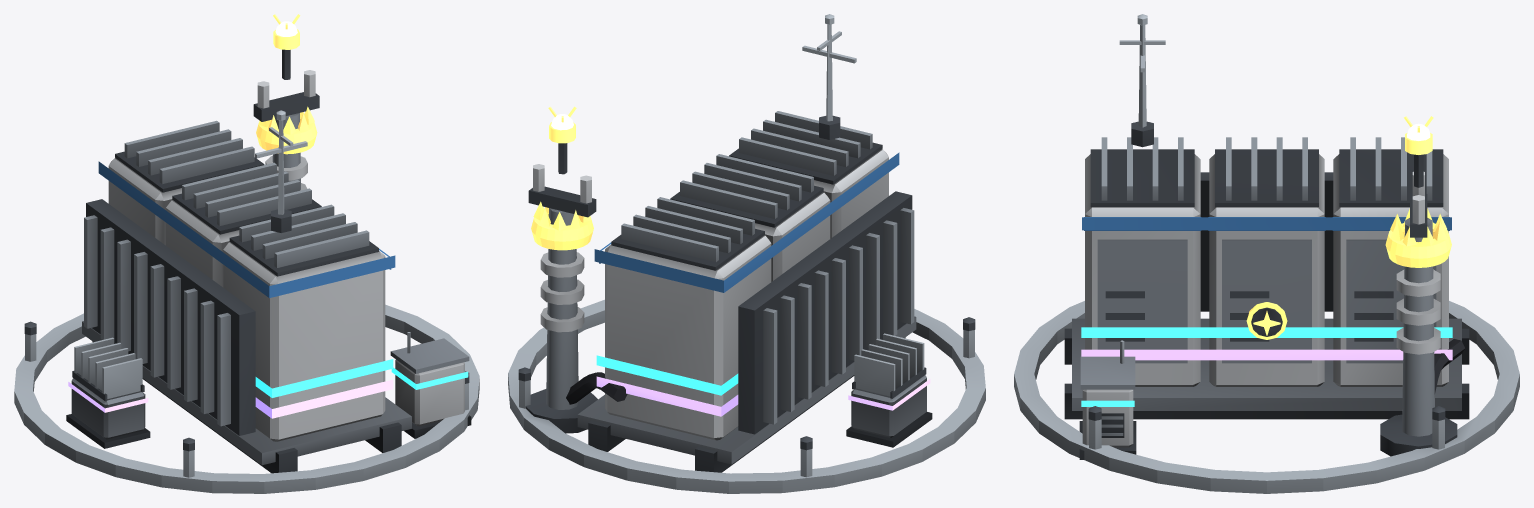
The model's file is battery_m.glb.
3 views of the same model, side by side, from view 1: azimuth 30°, elevation 25°; view 2: azimuth 150°, elevation 25°; view 3: azimuth 270°, elevation 25° (orthographic). The views are drawn at different scales.
Parts seen in each view (by area): view 1: Base, L2, L4, L3, L5; view 2: Base, L2, L4, L5, L3; view 3: Base, L2, L3, L5, L4.
Boxes of the visible parts, left/top/right/bottom form: Base: left=82, top=70, right=411, bottom=473; L2: left=14, top=110, right=479, bottom=493; L4: left=66, top=337, right=393, bottom=448; L3: left=255, top=332, right=471, bottom=438; L5: left=256, top=14, right=317, bottom=154; Base: left=525, top=111, right=916, bottom=472; L2: left=508, top=14, right=985, bottom=493; L4: left=596, top=333, right=932, bottom=447; L5: left=531, top=106, right=593, bottom=250; L3: left=596, top=355, right=738, bottom=395; Base: left=1064, top=137, right=1469, bottom=456; L2: left=1014, top=14, right=1519, bottom=493; L3: left=1079, top=327, right=1452, bottom=459; L5: left=1246, top=116, right=1451, bottom=339; L4: left=1081, top=349, right=1452, bottom=360.
Size of the model in its own units: 3.5 by 2.76 by 3.5.
